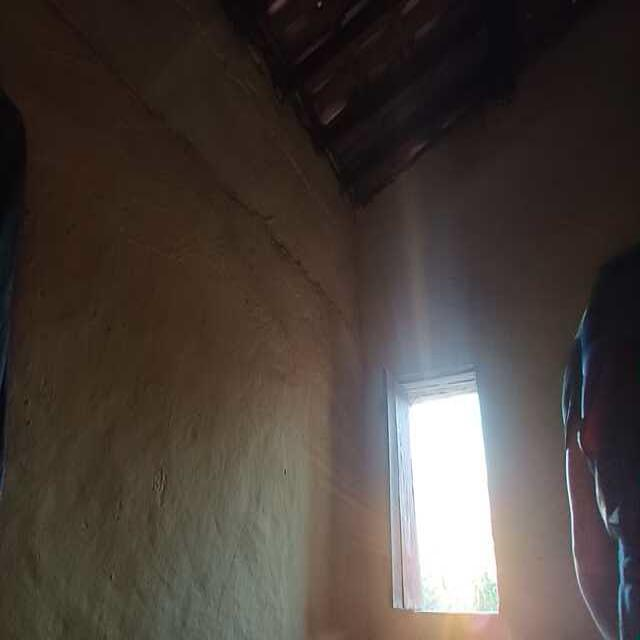colete: (572, 265, 640, 532)
pessoa: (544, 222, 640, 640)
